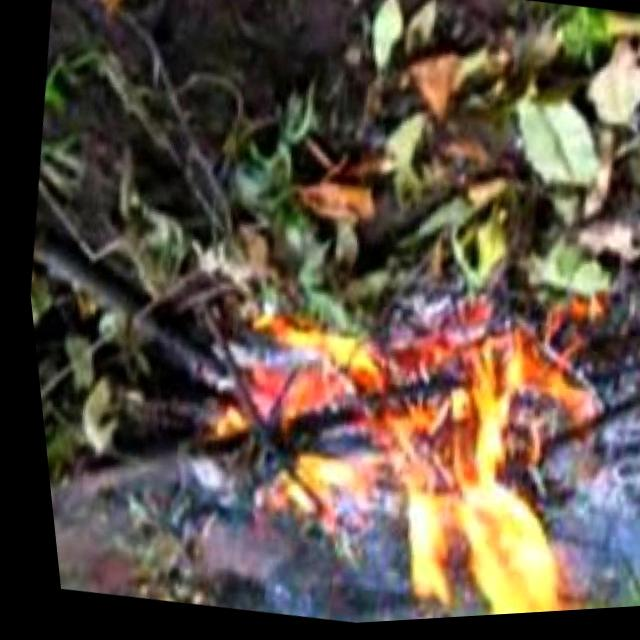fire: (230, 298, 626, 630)
